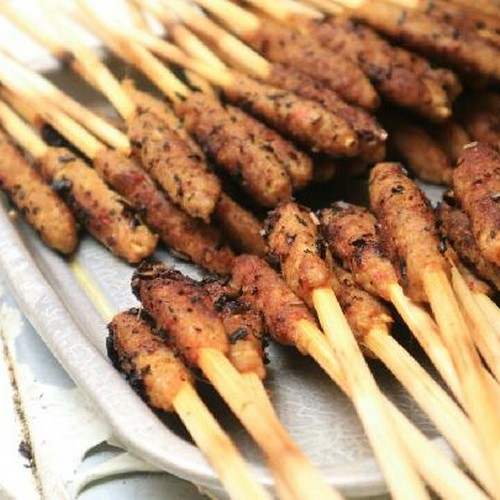sate lilit: (216, 195, 500, 442)
